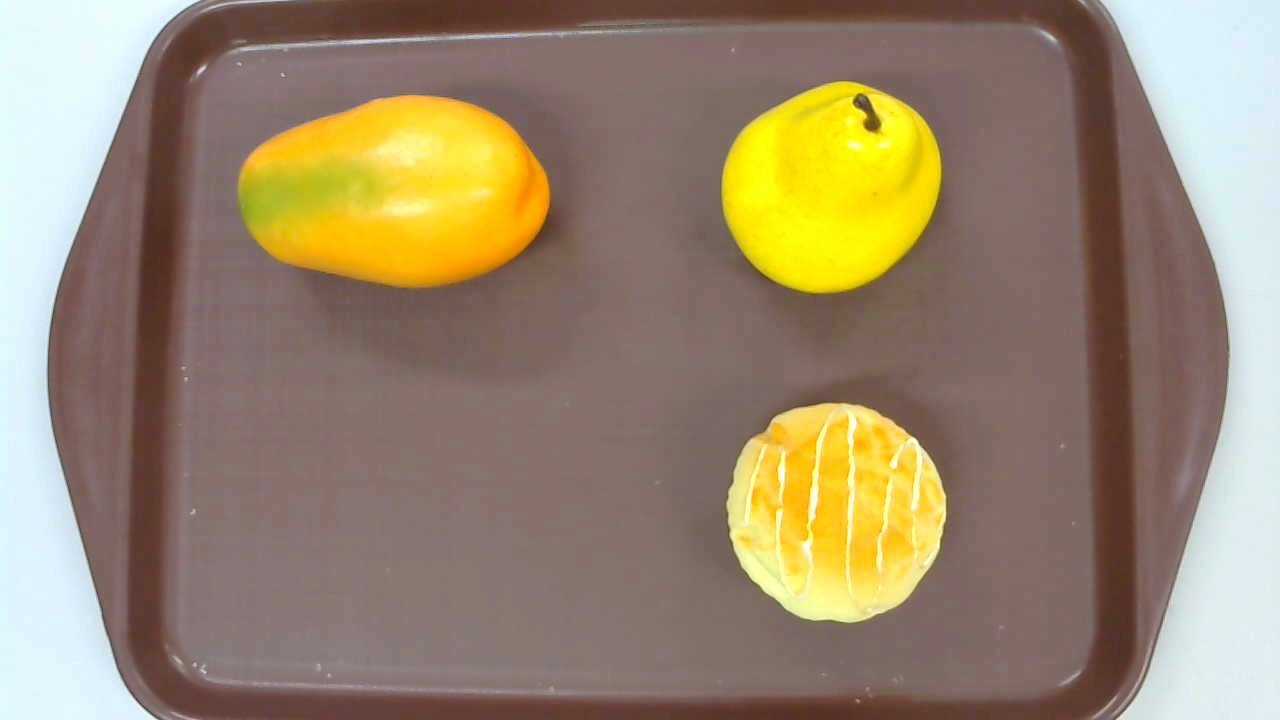cupcake: (725, 401, 947, 622)
papya: (238, 94, 551, 288)
yellow pear: (721, 80, 942, 294)
